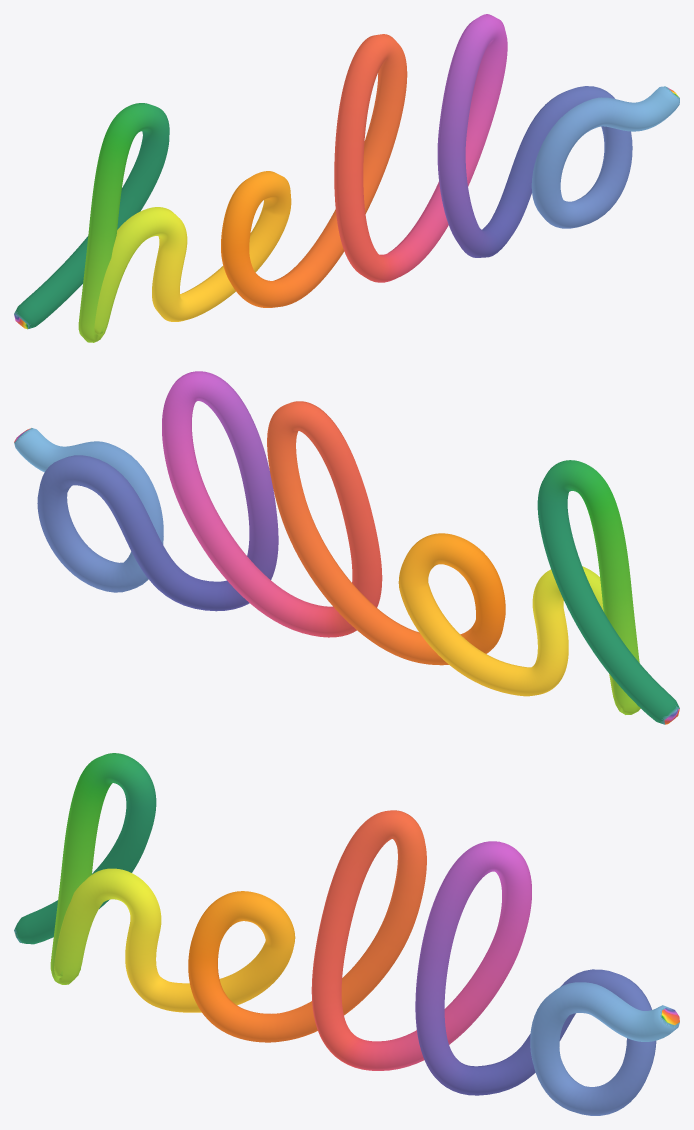
The model's file is DefaultCube.glb.
3 views of the same model, one above another, from view 1: azimuth 30°, elevation 25°; view 2: azimuth 150°, elevation 25°; view 3: azimuth 330°, elevation 25° (orthographic). The views are drawn at different scales.
Visible parts, largest first — view 1: Curve.001; view 2: Curve.001; view 3: Curve.001.
Part boxes in pixels (x1,y1,x2,y2): Curve.001: (14,14,679,342); Curve.001: (14,371,679,724); Curve.001: (14,753,679,1115).
Size of the model in its own units: 1.69 by 0.5809 by 0.1965.
Materials: 1 (1 with a texture image).
